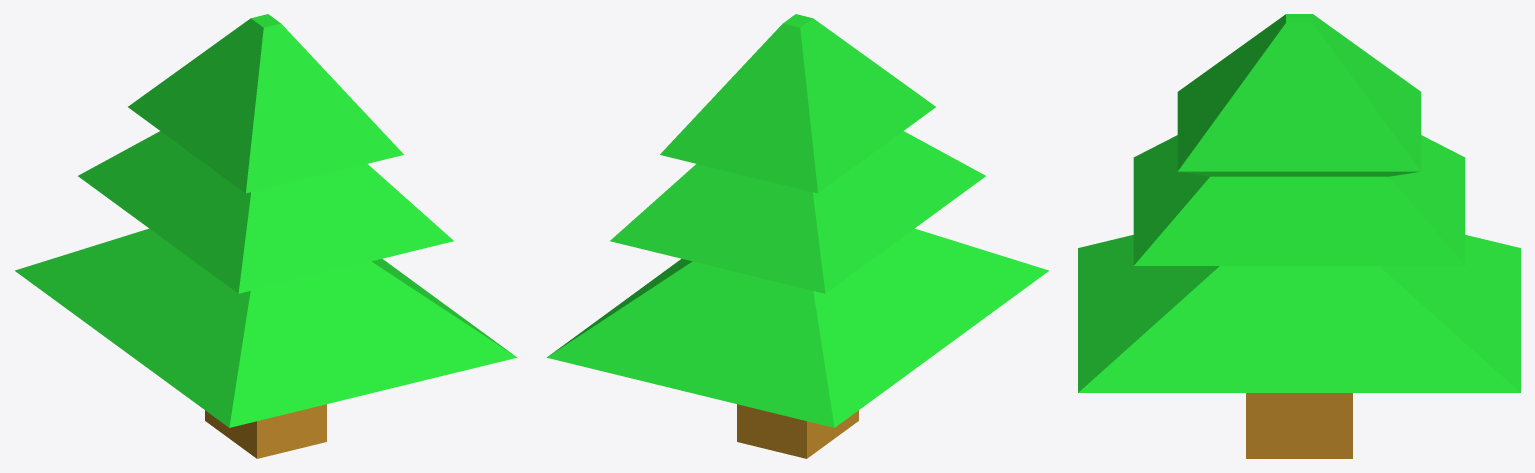
The model's file is tree.glb.
The picture shows the model from 3 angles, left to right: view 1: azimuth 30°, elevation 25°; view 2: azimuth 150°, elevation 25°; view 3: azimuth 270°, elevation 25°; orthographic projection. The views are drawn at different scales.
Visible parts, largest first — view 1: Cube; view 2: Cube; view 3: Cube.
Part boxes in pixels (<box>): Cube: <box>15,14,516,458</box>; Cube: <box>547,14,1048,458</box>; Cube: <box>1078,14,1520,458</box>.
Size of the model in its own units: 7.37 by 10.03 by 9.52.
